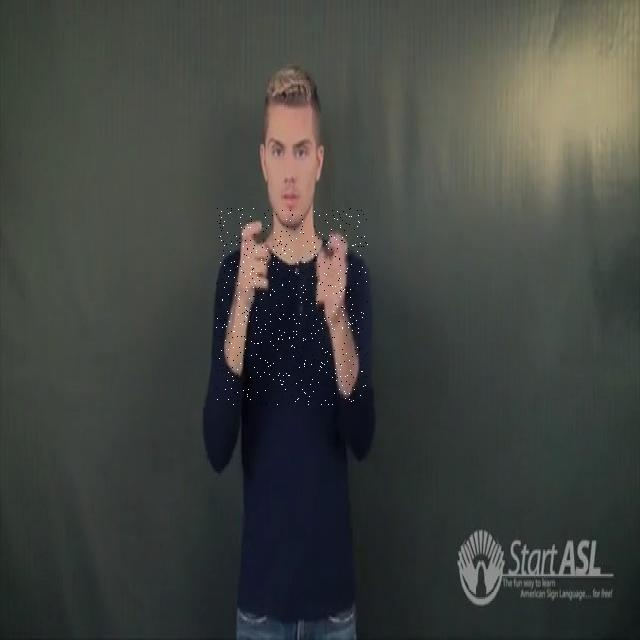manager: (216, 208, 368, 406)
